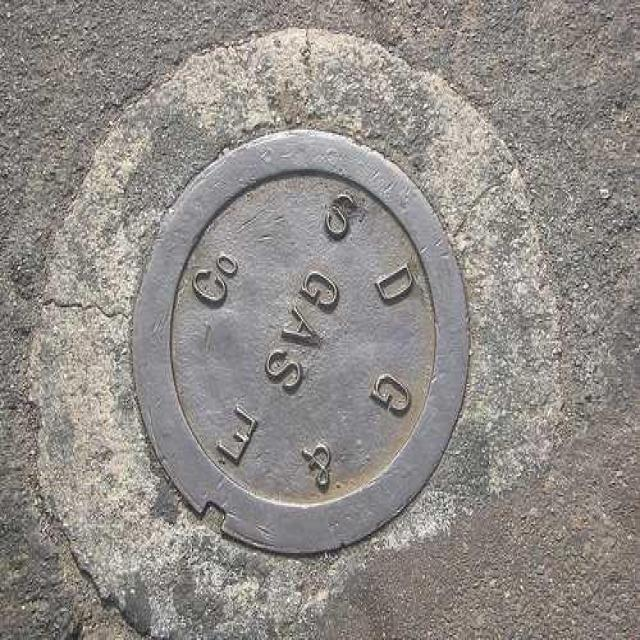manhole: (133, 130, 469, 552)
